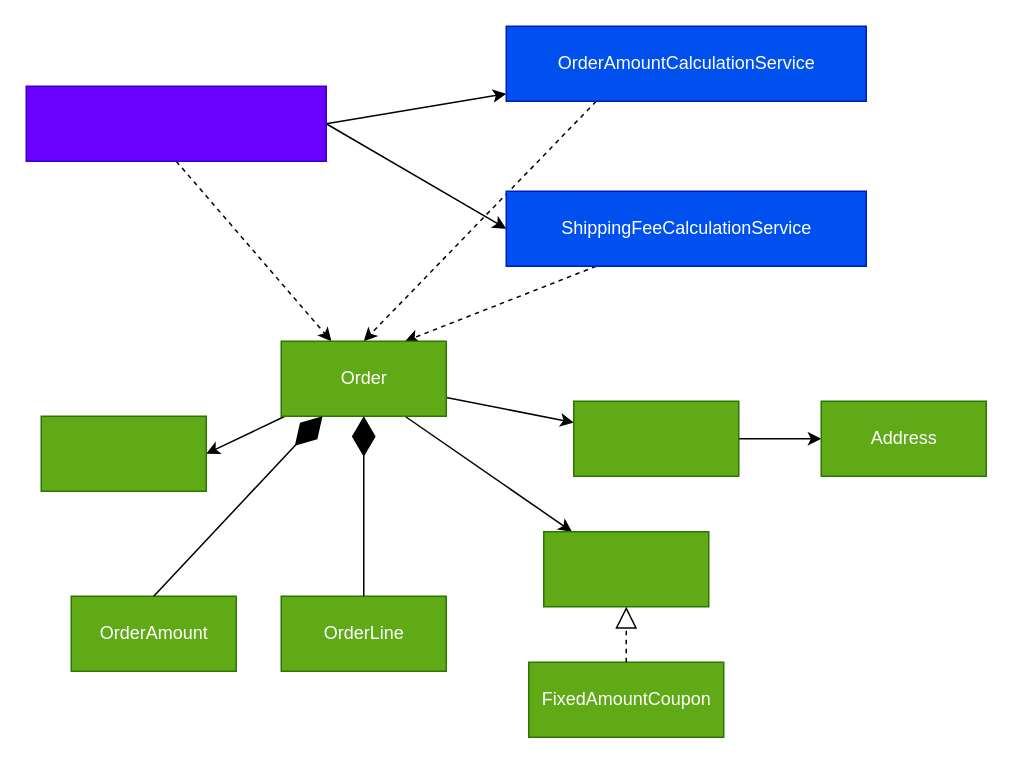
Some shapes in this 1013 by 764 pixel diagram are drawn without their labels. Each missing label, with the centre of its shape:
"<<interface>> Coupon" goes at [625,568].
"CalculateOrderAmountUseCase" goes at [175,123].
"Customer" goes at [655,438].
"Product" goes at [123,453].
